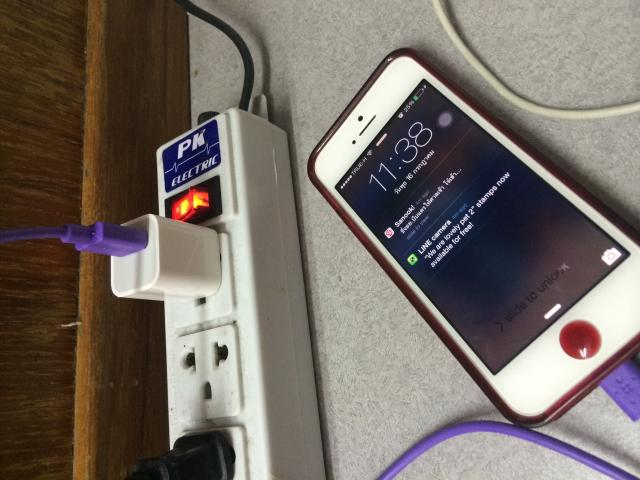Three_eye_plug: (151, 101, 333, 480)
